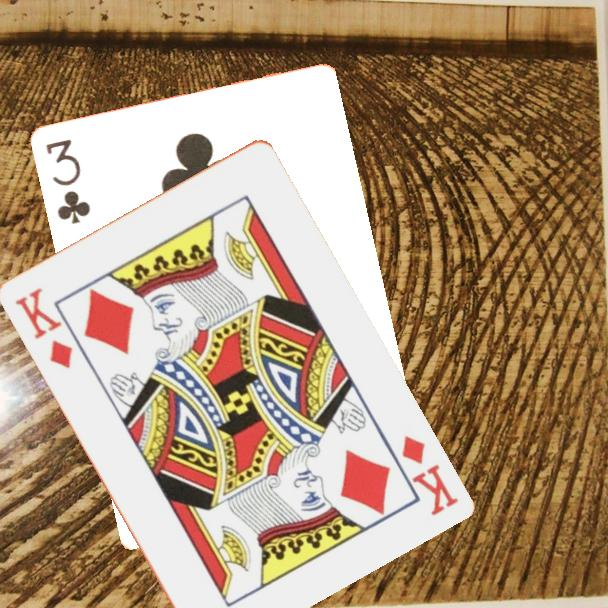c03: (42, 136, 94, 228)
d13: (11, 283, 75, 371), (397, 431, 461, 519)
